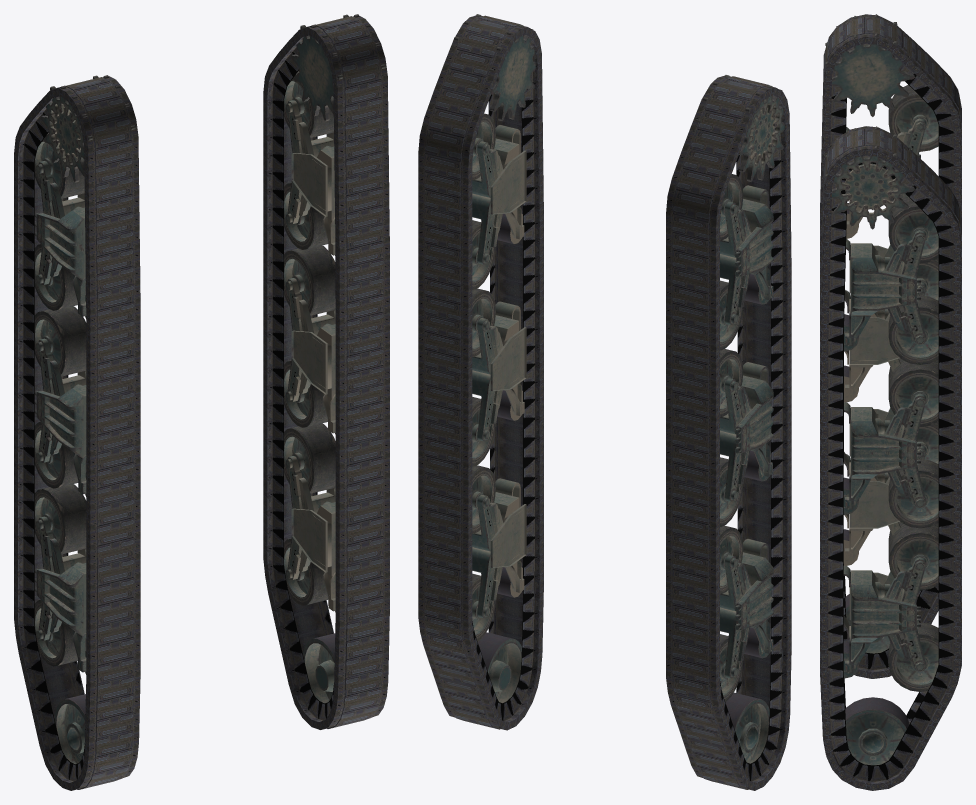
File: Chassis.glb
The picture shows the model from 3 angles, left to right: view 1: azimuth 30°, elevation 25°; view 2: azimuth 150°, elevation 25°; view 3: azimuth 270°, elevation 25°; orthographic projection. The views are drawn at different scales.
Parts seen in each view (by area): view 1: set_2_group_0, set_3_group_0, set_1_group_0, set_0_group_0; view 2: set_2_group_0, set_3_group_0, set_0_group_0, set_1_group_0; view 3: set_0_group_0, set_2_group_0, set_1_group_0, set_3_group_0.
Boxes of the visible parts, x1,y1,x2,y2 form: set_2_group_0: (263,16,389,729); set_3_group_0: (14,76,140,790); set_1_group_0: (34,75,135,764); set_0_group_0: (284,14,386,703); set_2_group_0: (418,15,543,730); set_3_group_0: (666,75,791,790); set_0_group_0: (446,14,535,703); set_1_group_0: (695,75,784,763); set_0_group_0: (825,126,938,765); set_2_group_0: (820,126,961,790); set_1_group_0: (825,14,938,653); set_3_group_0: (820,14,961,678).
Size of the model in its own units: 2.58 by 5.69 by 1.14.
4 materials, 4 textured.
